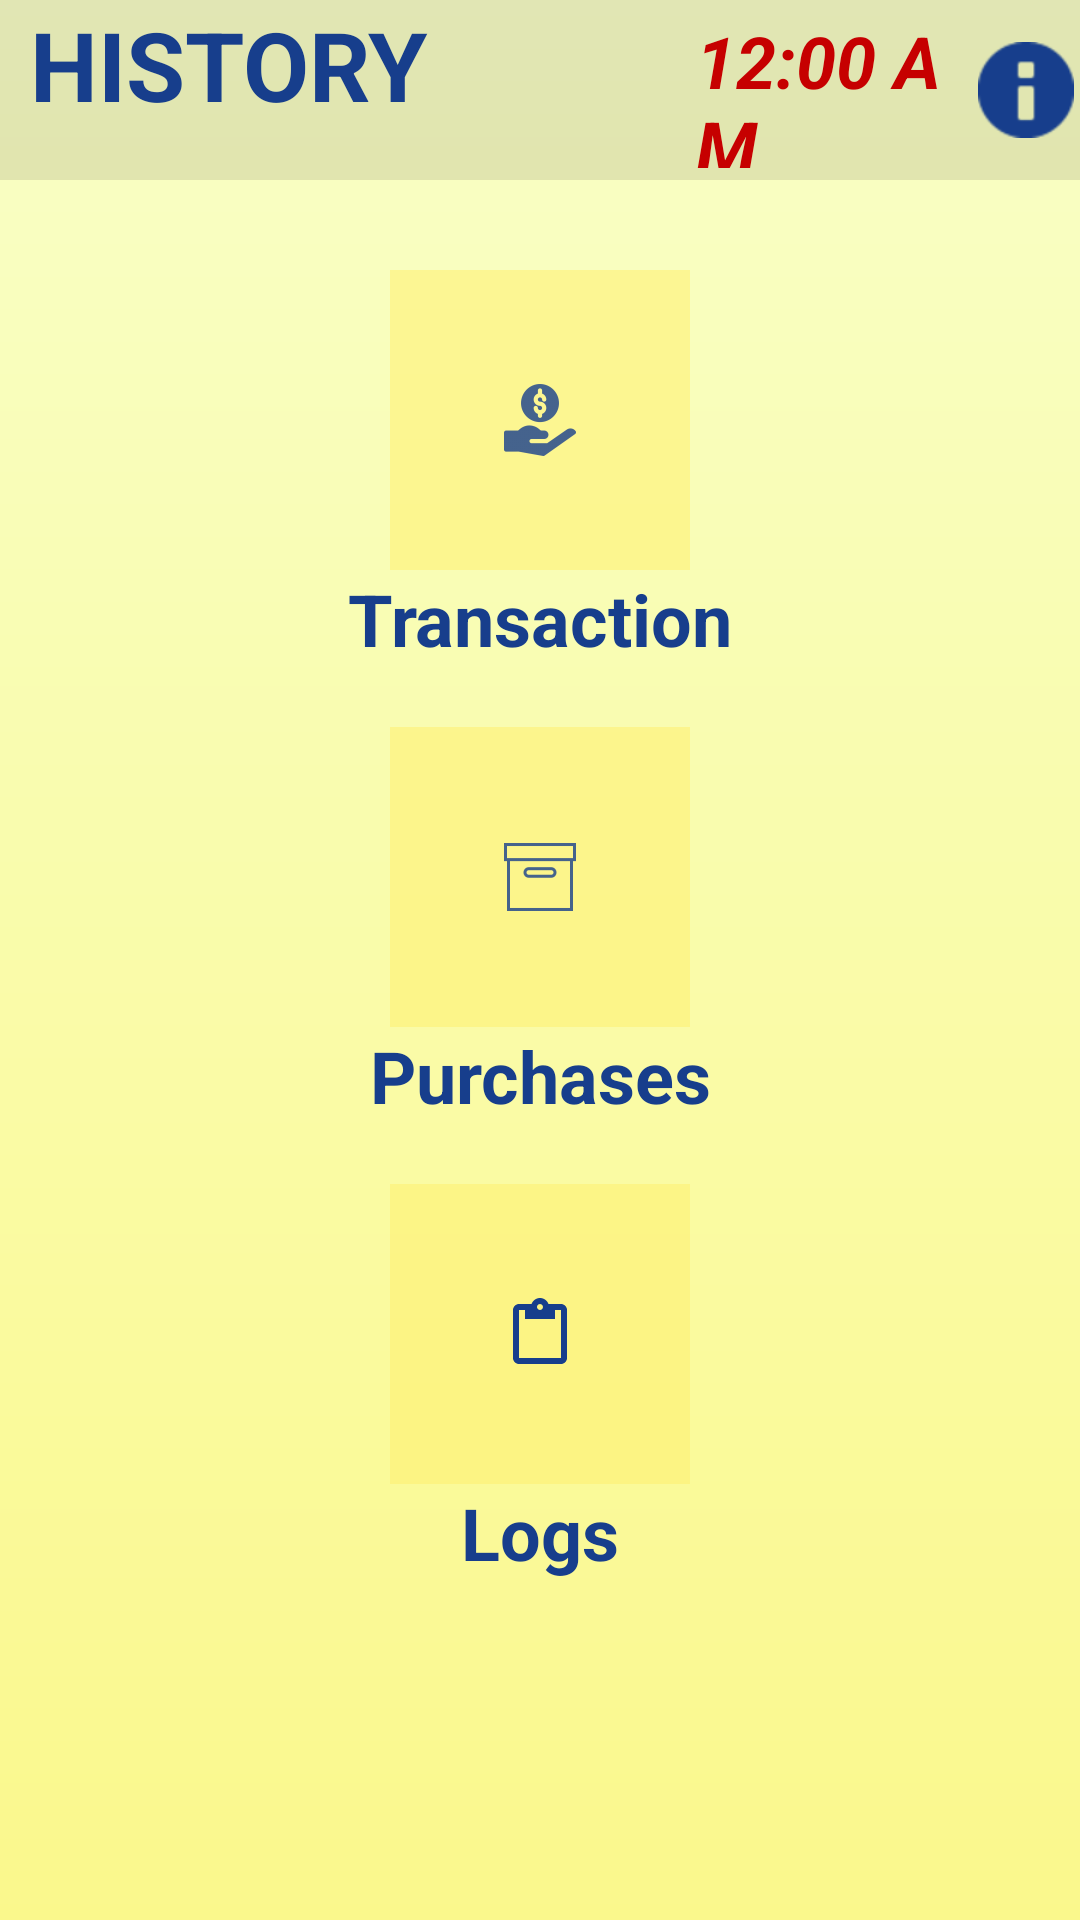

Point at icon controls on the screen. Image size 1080x1920, points as (x,y).
stock: (540,877)
